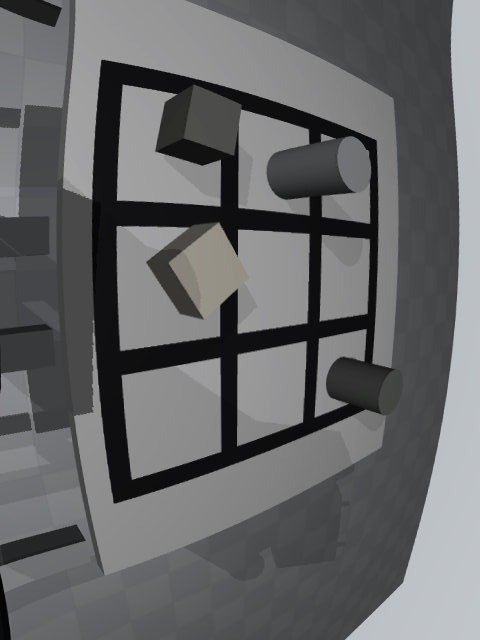can: (267, 136, 372, 200)
cube: (156, 84, 242, 166)
cylinder: (326, 357, 403, 415)
foam: (146, 222, 249, 320)
